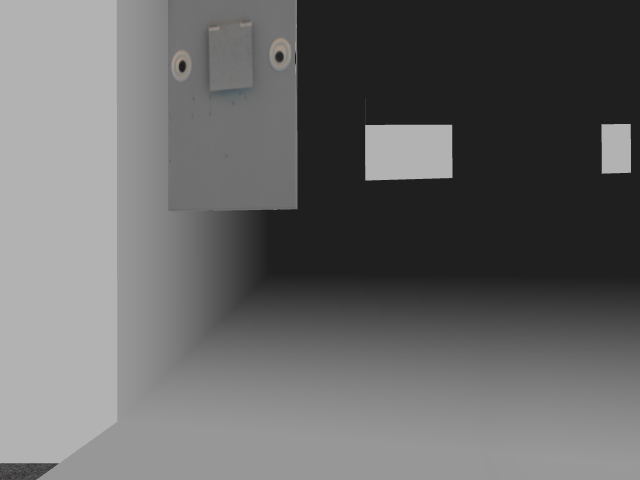facade: (171, 20, 291, 94)
